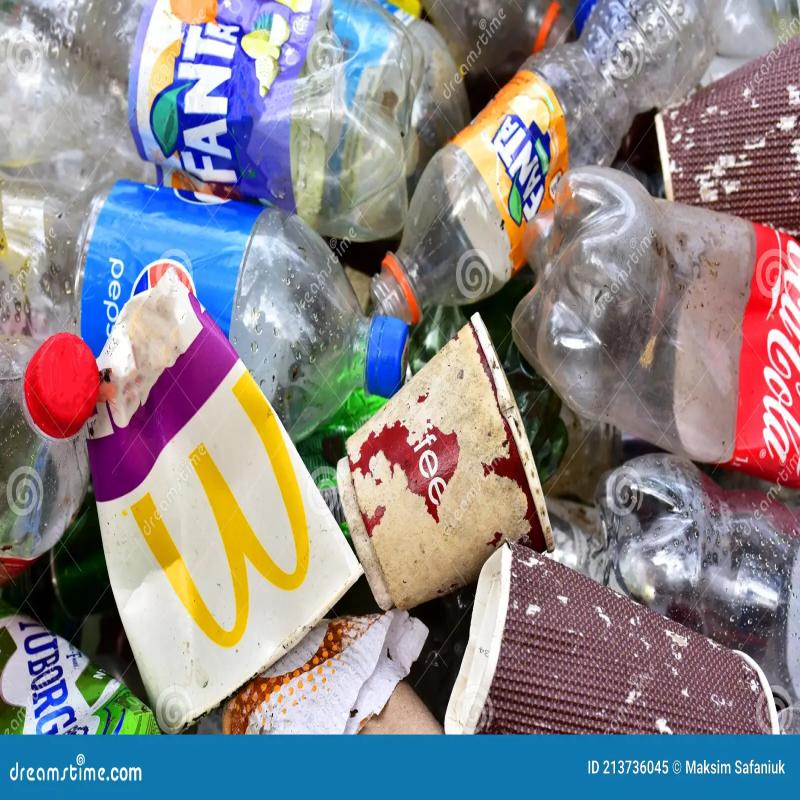botella: (0, 115, 408, 414), (375, 3, 717, 346), (5, 0, 462, 241), (504, 151, 800, 450), (0, 294, 101, 604)
